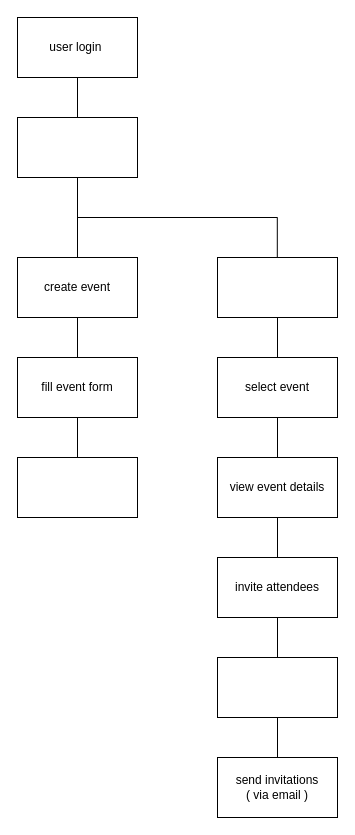
The diagram is 355 pixels wide and 835 high, and some of its shapes have lost their labels. Each missing label, with the centre of its shape:
"dashboard" belongs at (77,147).
"fill attendee form" belongs at (277,687).
"submit event" belongs at (77,487).
"view events" belongs at (277,287).
